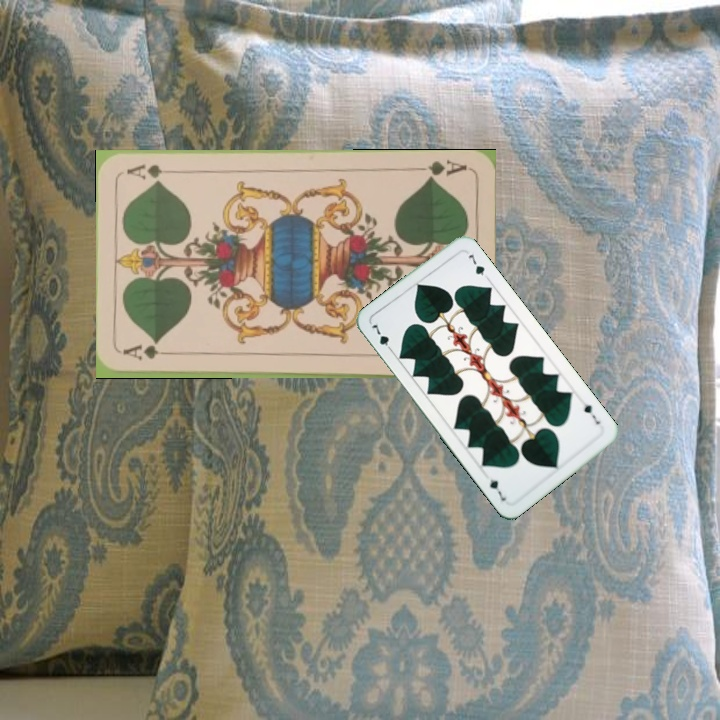G7: (367, 320, 396, 355), (580, 400, 603, 427)
GA: (410, 156, 469, 183), (121, 343, 180, 363)
